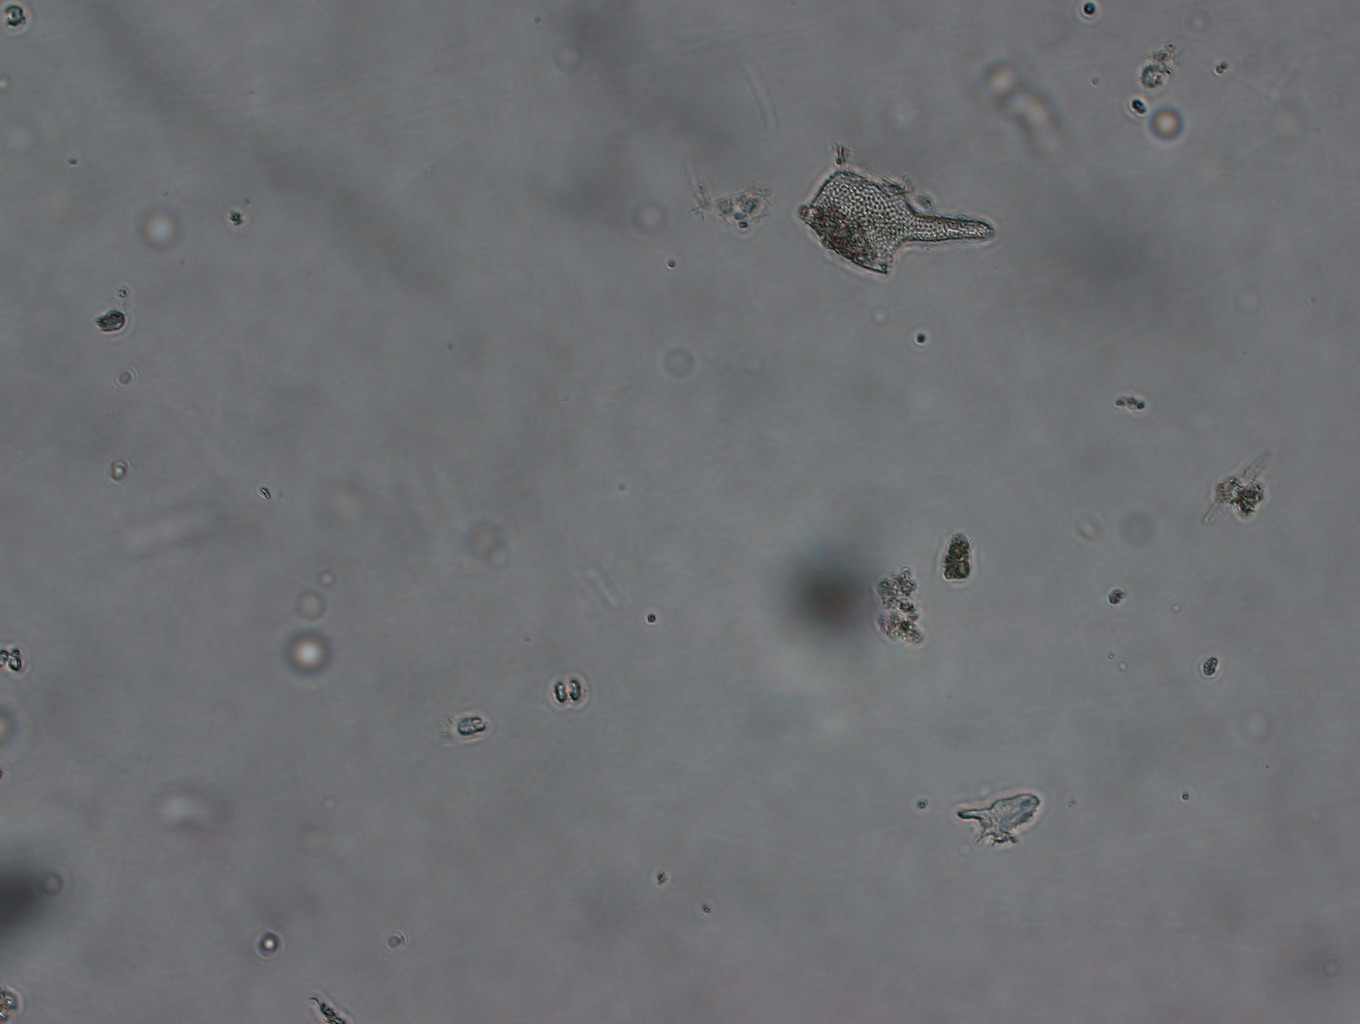dinophysis caudata: (787, 156, 1002, 291)
